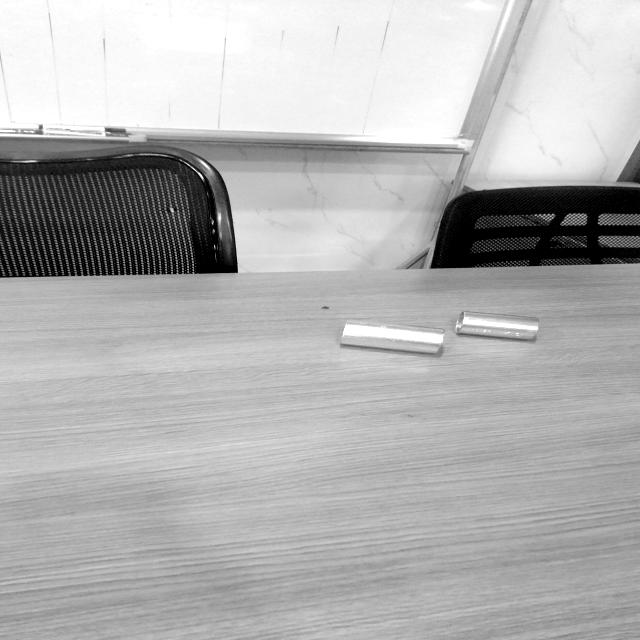Co_Lon: (340, 318, 445, 357)
Co_Nho: (455, 311, 539, 341)
